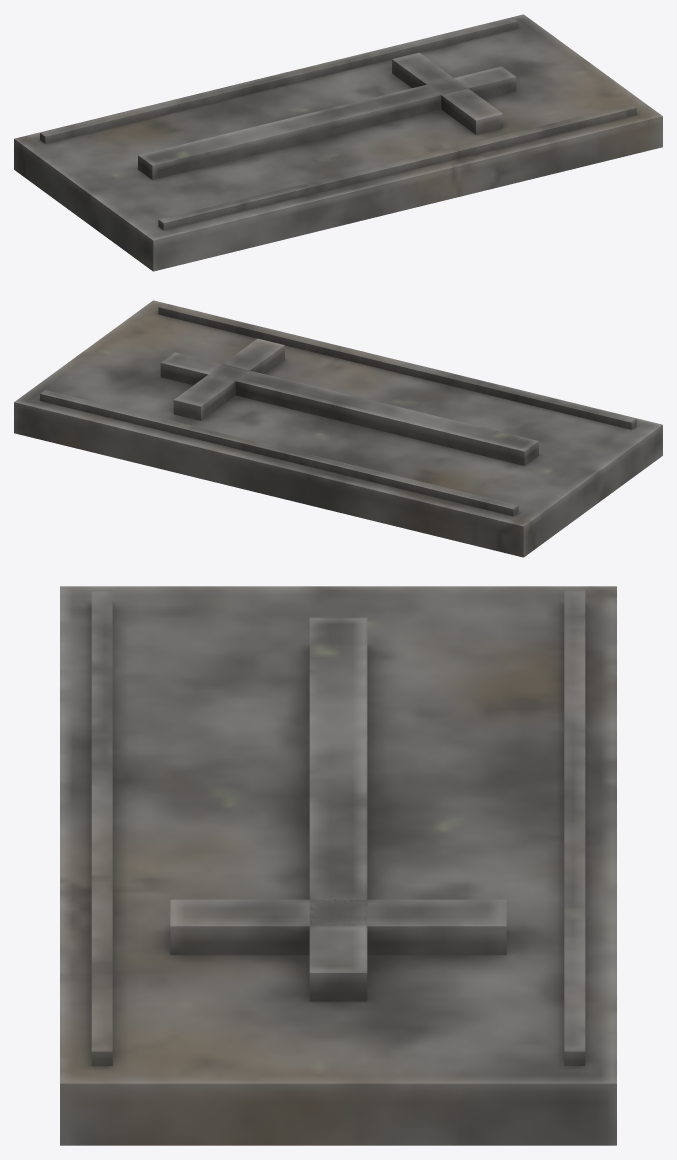
Rendered from tombeau_couvercle.fbx.
The picture shows the model from 3 angles, top to bottom: view 1: azimuth 30°, elevation 25°; view 2: azimuth 150°, elevation 25°; view 3: azimuth 270°, elevation 25°; orthographic projection. The views are drawn at different scales.
Parts seen in each view (by area): view 1: tombeau_couvercle; view 2: tombeau_couvercle; view 3: tombeau_couvercle.
Part boxes in pixels (left/top/right/bottom): tombeau_couvercle: left=14, top=14, right=662, bottom=271; tombeau_couvercle: left=14, top=300, right=662, bottom=557; tombeau_couvercle: left=60, top=586, right=616, bottom=1145.
Bounding box in the file's own units: 2.24 × 0.19 × 1.06.
Materials: 1 (1 with a texture image).
